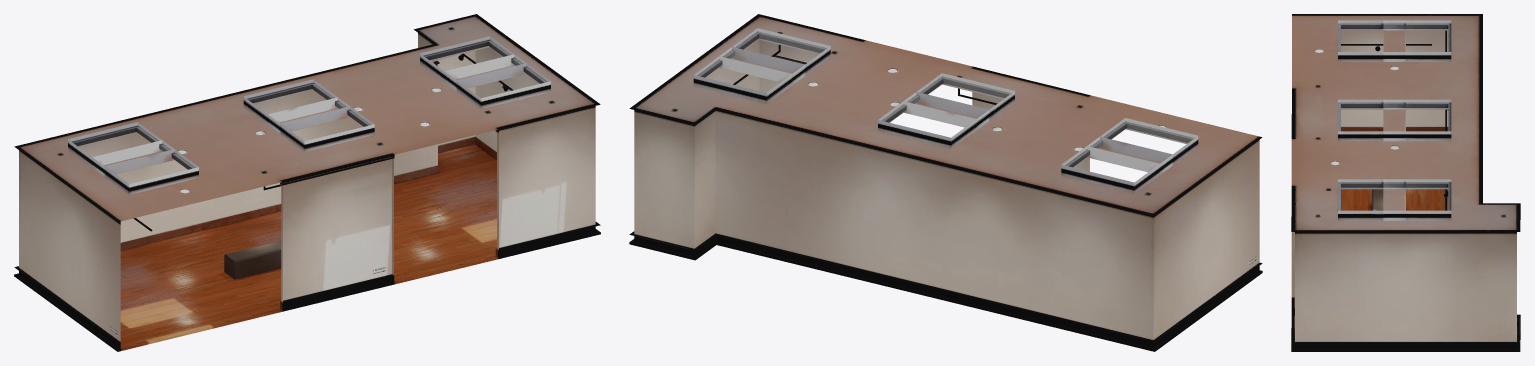
Rendered from room_3.glb.
3 renders of one model, left to right at view 1: azimuth 30°, elevation 25°; view 2: azimuth 150°, elevation 25°; view 3: azimuth 270°, elevation 25°, orthographic. The views are drawn at different scales.
Parts seen in each view (by area): view 1: room_3; view 2: room_3; view 3: room_3.
Boxes of the visible parts, left/top/right/bottom form: room_3: left=14, top=14, right=600, bottom=351; room_3: left=629, top=14, right=1262, bottom=351; room_3: left=1291, top=14, right=1520, bottom=351.
Size of the model in its own units: 13.83 by 3.85 by 6.14.
2 materials, 2 textured.
